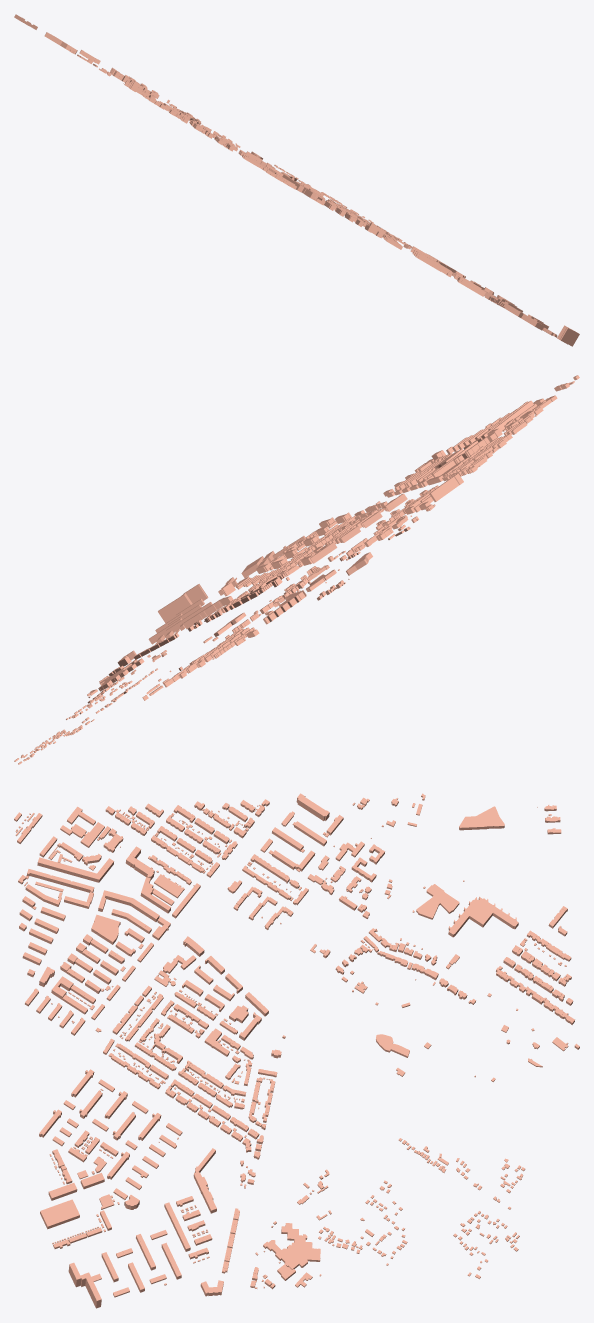
3 views of the same model, one above another, from view 1: azimuth 30°, elevation 25°; view 2: azimuth 150°, elevation 25°; view 3: azimuth 270°, elevation 25° (orthographic). The views are drawn at different scales.
Size of the model in its own units: 1059 by 784 by 1247.
